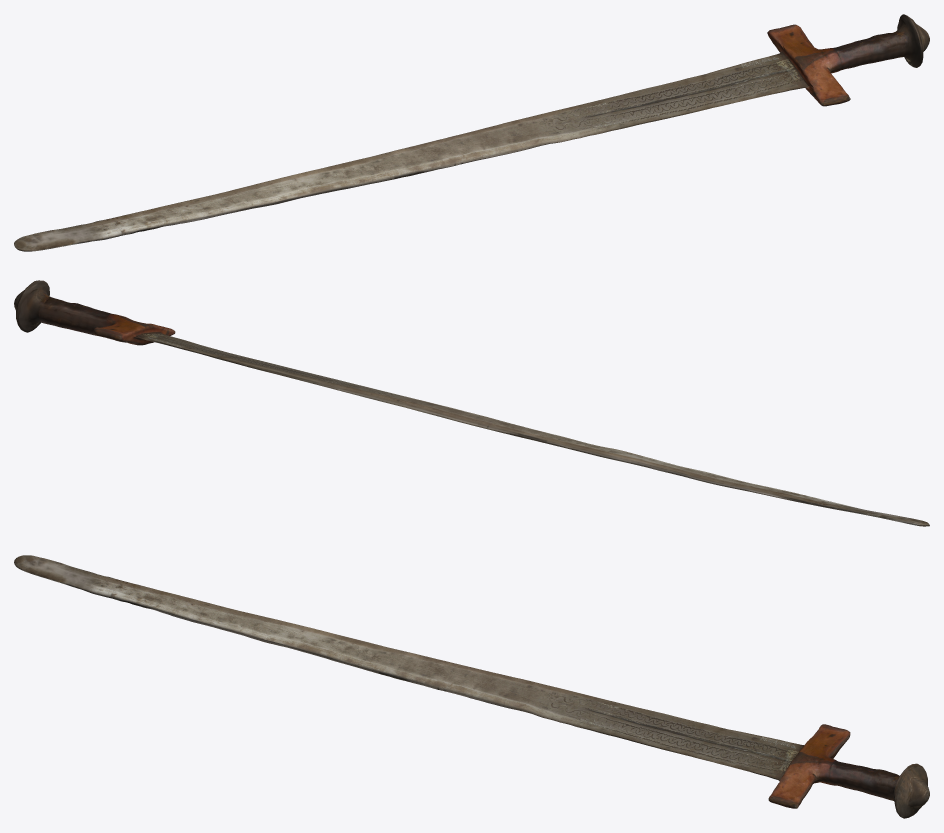
File: takuba_a_tuareg_sword.glb
The picture shows the model from 3 angles, top to bottom: view 1: azimuth 30°, elevation 25°; view 2: azimuth 150°, elevation 25°; view 3: azimuth 330°, elevation 25°; orthographic projection.
Parts seen in each view (by area): view 1: Object_2, Object_3; view 2: Object_2, Object_3; view 3: Object_2, Object_3.
Boxes of the visible parts, x1,y1,x2,y2 form: Object_2: [14, 14, 929, 251]; Object_3: [14, 109, 702, 250]; Object_2: [14, 280, 929, 526]; Object_3: [240, 363, 929, 524]; Object_2: [14, 562, 929, 818]; Object_3: [14, 555, 680, 753].
Size of the model in its own units: 17.55 by 0.9066 by 1.87.
1 material, 1 textured.
